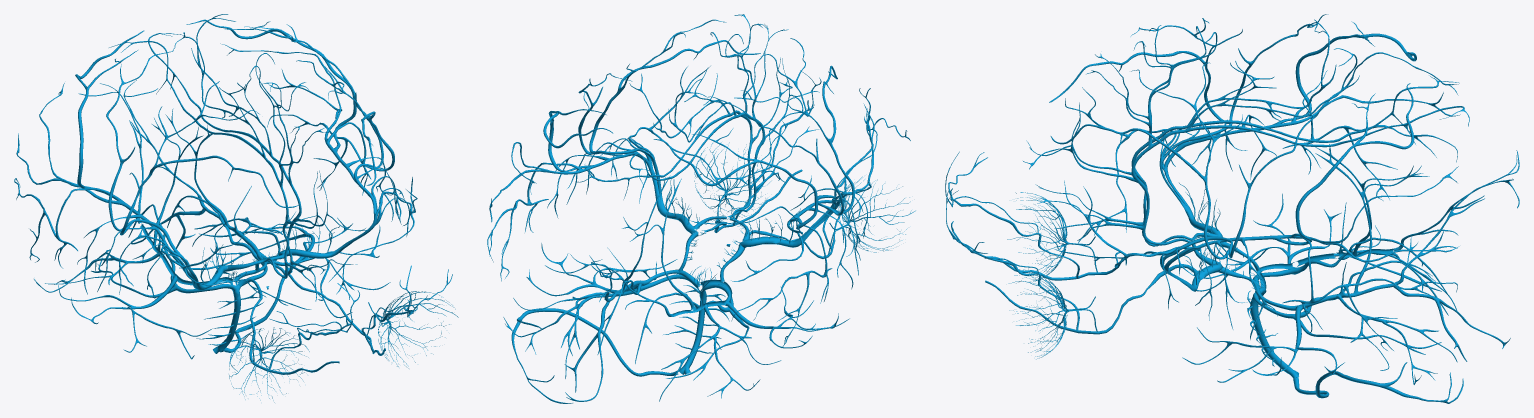
The model's file is BrainArterial3D-draco.gltf.
3 renders of one model, left to right at view 1: azimuth 30°, elevation 25°; view 2: azimuth 150°, elevation 25°; view 3: azimuth 270°, elevation 25°, orthographic. The views are drawn at different scales.
Visible parts, largest first — view 1: R_Middle_Cerebral_Artery, L_Middle_Cerebral_Artery, R_Anterior_Cerebellar_Artery, L_Anterior_Cerebral_Artery, R_Ophthalmic_Artery, L_Ophthalmic_Artery, R_PCA_Anterior_Temporal_Artery, L_Anterior_Inferior_Cerebellar_Artery, L_Superior_Cerebellar_Artery, R_Superior_Cerebellar_Artery, L_PCA_Anterior_Temporal_Artery, R_Eye_Arteries (+10 smaller); view 2: R_Middle_Cerebral_Artery, L_Middle_Cerebral_Artery, R_Anterior_Cerebellar_Artery, L_Anterior_Cerebral_Artery, L_Anterior_Inferior_Cerebellar_Artery, L_Ophthalmic_Artery, R_Ophthalmic_Artery, R_Superior_Cerebellar_Artery, L_Superior_Cerebellar_Artery, R_PCA_Posterior_Temporal_Artery, R_PCA_Anterior_Temporal_Artery, L_PCA_Anterior_Temporal_Artery (+9 smaller); view 3: L_Middle_Cerebral_Artery, R_Middle_Cerebral_Artery, L_Anterior_Cerebral_Artery, R_Anterior_Cerebellar_Artery, L_Ophthalmic_Artery, R_Ophthalmic_Artery, L_PCA_Anterior_Temporal_Artery, L_Superior_Cerebellar_Artery, L_Anterior_Inferior_Cerebellar_Artery, R_Superior_Cerebellar_Artery, R_PCA_Anterior_Temporal_Artery, L_PCA_Posterior_Temporal_Artery (+9 smaller).
Boxes of the visible parts, x1,y1,x2,y2 form: R_Middle_Cerebral_Artery: (14,30,311,309); L_Middle_Cerebral_Artery: (186,19,417,299); R_Anterior_Cerebellar_Artery: (109,32,332,301); L_Anterior_Cerebral_Artery: (148,14,368,299); R_Ophthalmic_Artery: (237,278,359,374); L_Ophthalmic_Artery: (285,265,452,355); R_PCA_Anterior_Temporal_Artery: (58,275,212,359); L_Anterior_Inferior_Cerebellar_Artery: (179,226,314,352); L_Superior_Cerebellar_Artery: (167,195,280,289); R_Superior_Cerebellar_Artery: (91,204,236,297); L_PCA_Anterior_Temporal_Artery: (259,217,390,318); R_Eye_Arteries: (229,328,308,400); R_Middle_Cerebral_Artery: (653,38,874,347); L_Middle_Cerebral_Artery: (487,19,772,281); R_Anterior_Cerebellar_Artery: (629,23,819,241); L_Anterior_Cerebral_Artery: (575,14,792,229); L_Anterior_Inferior_Cerebellar_Artery: (511,308,678,403); L_Ophthalmic_Artery: (702,70,821,232); R_Ophthalmic_Artery: (749,88,910,258); R_Superior_Cerebellar_Artery: (635,284,749,380); L_Superior_Cerebellar_Artery: (561,274,701,355); R_PCA_Posterior_Temporal_Artery: (659,304,781,401); R_PCA_Anterior_Temporal_Artery: (725,286,849,348); L_PCA_Anterior_Temporal_Artery: (526,243,677,296); L_Middle_Cerebral_Artery: (1050,62,1459,350); R_Middle_Cerebral_Artery: (1049,14,1460,237); L_Anterior_Cerebral_Artery: (1023,32,1469,265); R_Anterior_Cerebellar_Artery: (1026,19,1459,246); L_Ophthalmic_Artery: (946,190,1199,334); R_Ophthalmic_Artery: (945,151,1201,280); L_PCA_Anterior_Temporal_Artery: (1182,305,1344,382); L_Superior_Cerebellar_Artery: (1253,260,1448,354); L_Anterior_Inferior_Cerebellar_Artery: (1293,362,1463,403); R_Superior_Cerebellar_Artery: (1253,237,1448,295); R_PCA_Anterior_Temporal_Artery: (1196,193,1341,291); L_PCA_Posterior_Temporal_Artery: (1336,294,1457,384).
Bounding box in the file's own units: 1.17 × 1.19 × 1.74.
